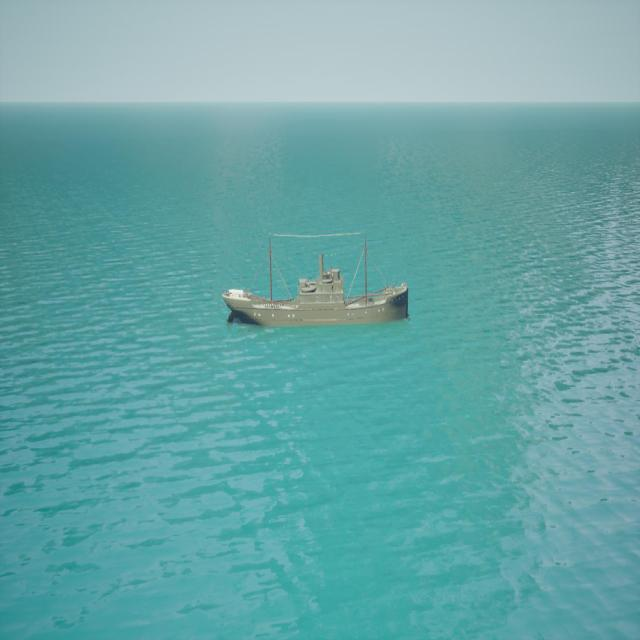fishing ship: (224, 231, 412, 331)
